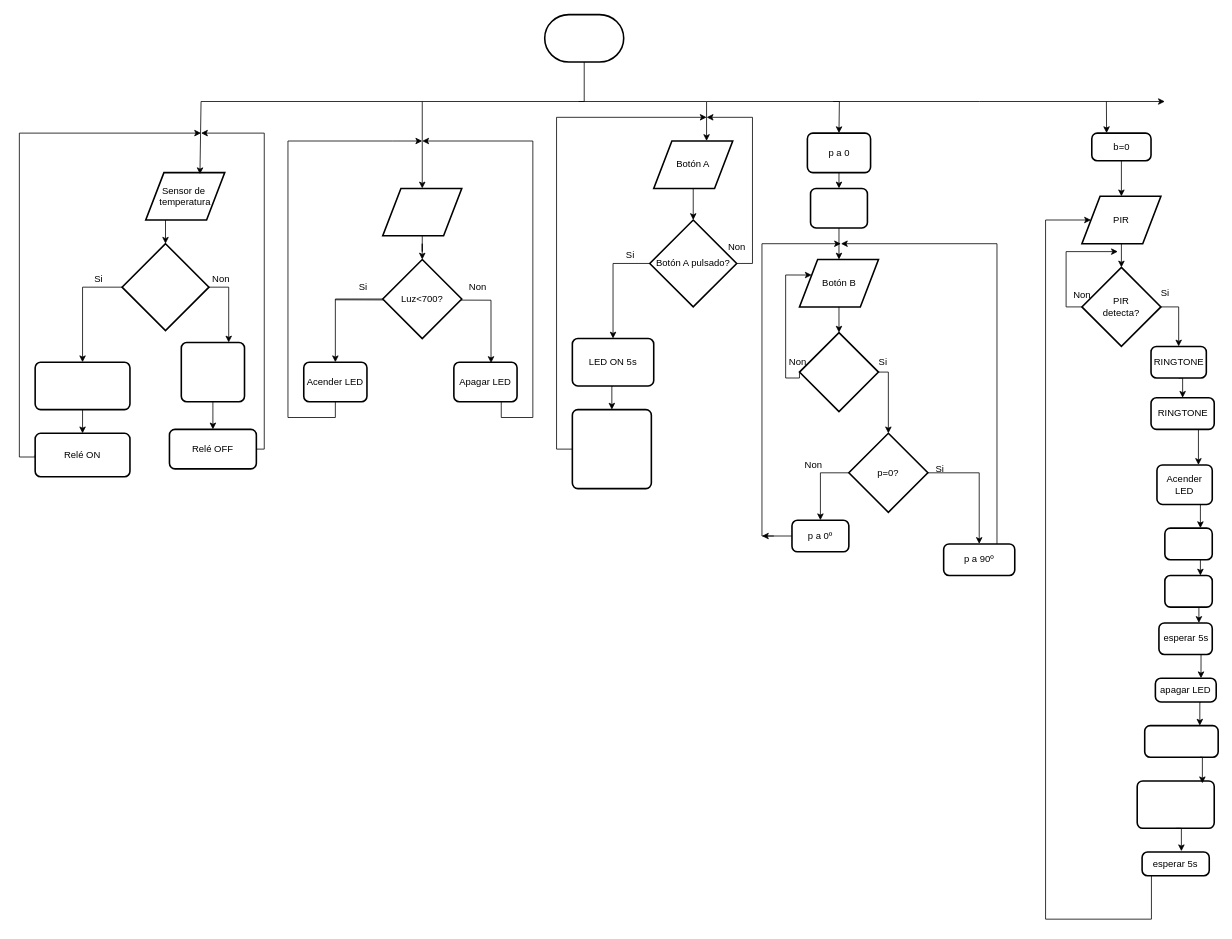
Some shapes in this 1232 by 939 pixel diagram are drawn without their labels. Here are the shapes that lost their labels. From the top down, the centre of each, then its label:
At point 584,37: "INICIO".
At point 422,211: "Sensor de luz".
At point 838,207: "servo = 0º".
At point 165,287: "Temperatura>28 ° ?".
At point 82,385: "LED vermello".
At point 212,371: "LED OFF e relé OFF".
At point 838,371: "Botón B pulsado?".
At point 611,448: "reproduce o son RINGTONE".
At point 1188,543: "NP acender".
At point 1188,591: "NP vermello".
At point 1181,741: "apagar NP".
At point 1175,804: "Aparecer na pantalla unha cara enfadada".
